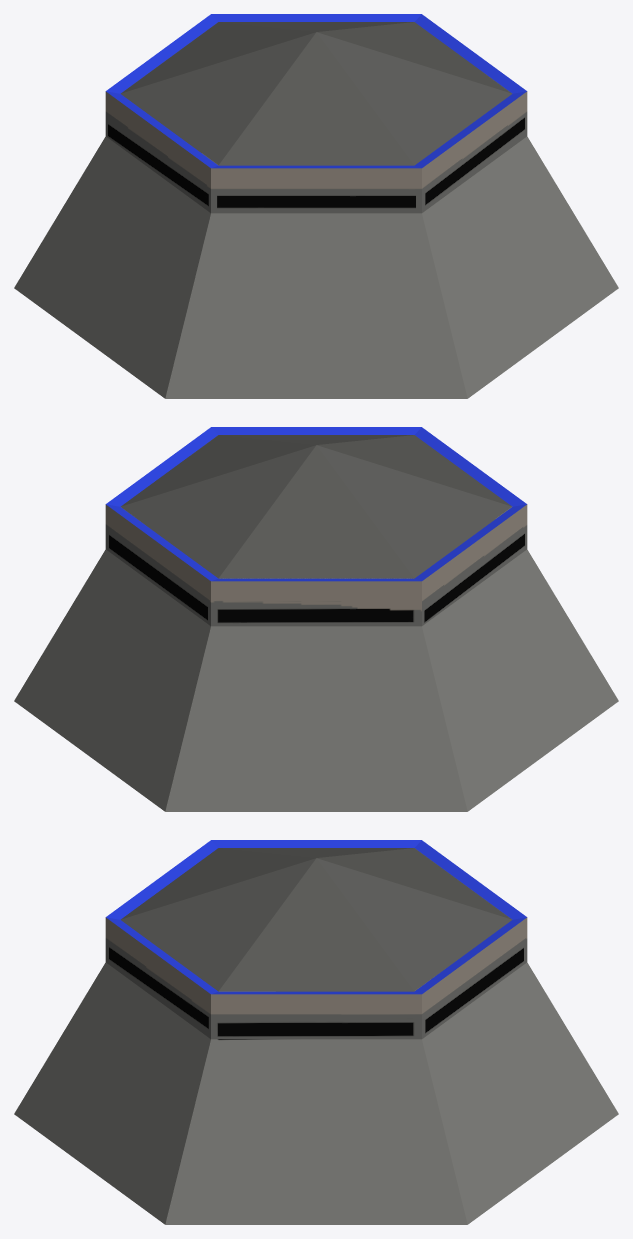
File: bunker.fbx
3 views of the same model, one above another, from view 1: azimuth 30°, elevation 25°; view 2: azimuth 150°, elevation 25°; view 3: azimuth 270°, elevation 25° (orthographic).
Parts seen in each view (by area): view 1: Cylinder; view 2: Cylinder; view 3: Cylinder.
Part boxes in pixels (x1,y1,x2,y2): Cylinder: (14, 14, 618, 398); Cylinder: (14, 427, 618, 811); Cylinder: (14, 840, 618, 1224).
Size of the model in its own units: 194 by 104 by 224.
2 materials, 1 textured.
